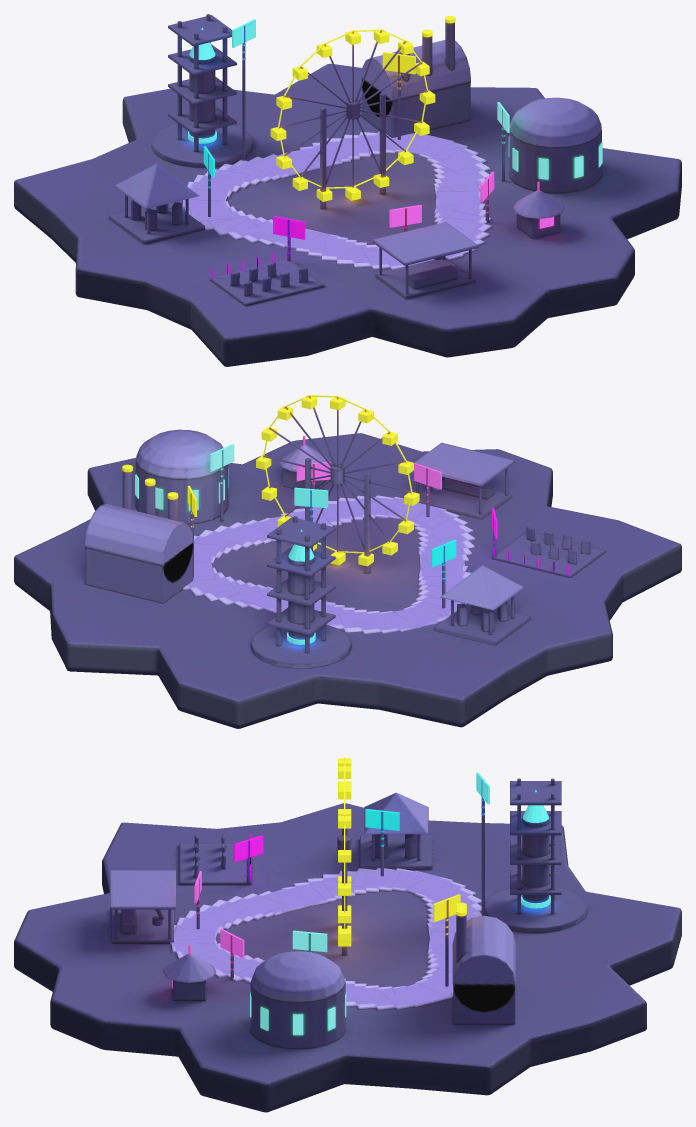
File: Park.glb
3 renders of one model, top to bottom at view 1: azimuth 30°, elevation 25°; view 2: azimuth 150°, elevation 25°; view 3: azimuth 270°, elevation 25°, orthographic. The views are drawn at different scales.
Parts seen in each view (by area): view 1: Park; view 2: Park; view 3: Park.
Boxes of the visible parts, x1,y1,x2,y2 form: Park: [14, 14, 681, 366]; Park: [14, 395, 681, 728]; Park: [14, 757, 681, 1112].
Size of what is drawn, in the model's own units: 64.57 by 21.76 by 64.61.
1 material, 1 textured.
